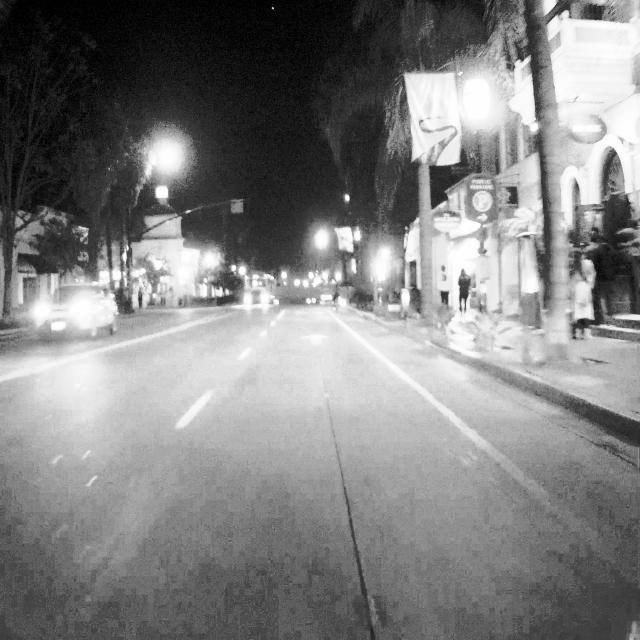Car: (34, 284, 119, 344)
Sign: (465, 174, 499, 224)
Tree: (513, 0, 589, 379)
